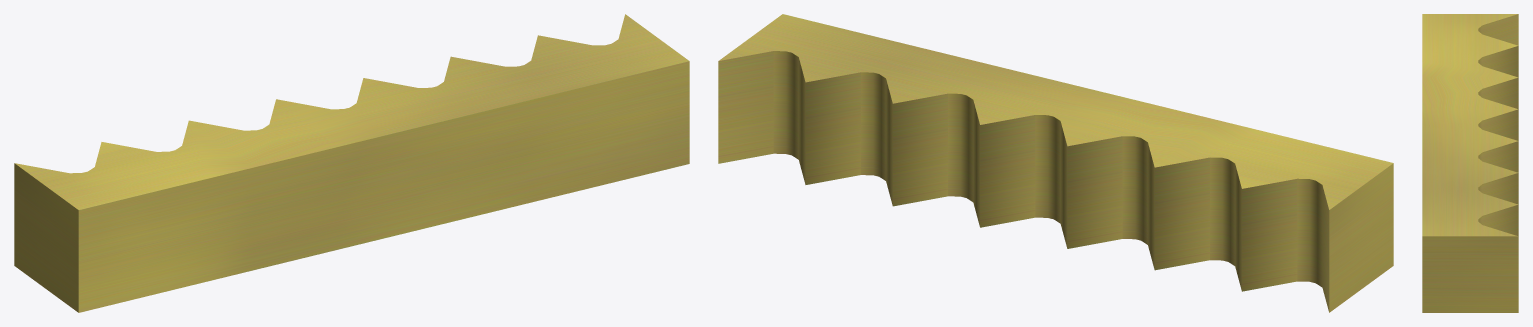
The model's file is StraightSprocket009.fbx.
3 views of the same model, side by side, from view 1: azimuth 30°, elevation 25°; view 2: azimuth 150°, elevation 25°; view 3: azimuth 270°, elevation 25° (orthographic). The views are drawn at different scales.
Visible parts, largest first — view 1: StraightSprocket009; view 2: StraightSprocket009; view 3: StraightSprocket009.
Boxes of the visible parts, box(x1,y1,x2,y2) form: StraightSprocket009: box(14, 14, 689, 312); StraightSprocket009: box(718, 14, 1393, 312); StraightSprocket009: box(1422, 14, 1518, 312).
Bounding box in the file's own units: 135 × 21.72 × 24.7.
